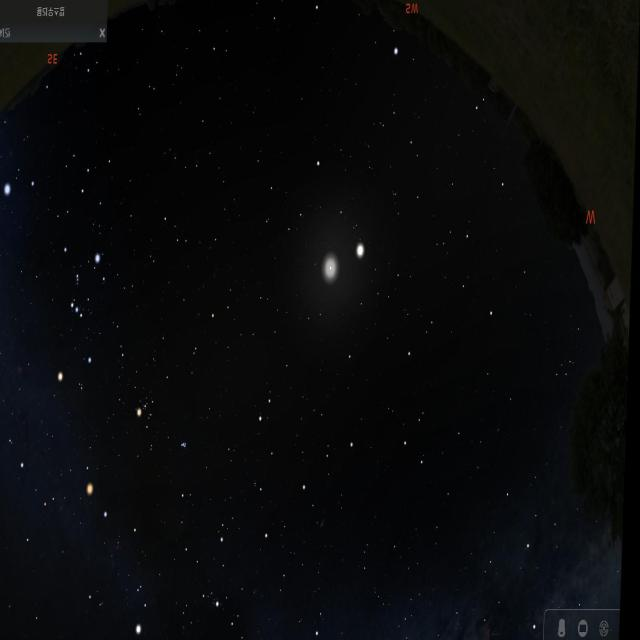canis_major: (0, 110, 20, 194)
moon: (311, 236, 355, 294)
orion: (45, 239, 105, 386)
pleiades: (179, 427, 196, 461)
taurus: (132, 376, 198, 466)
